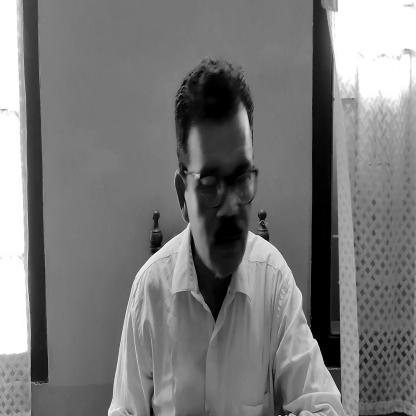Distracted: (172, 48, 255, 284)
